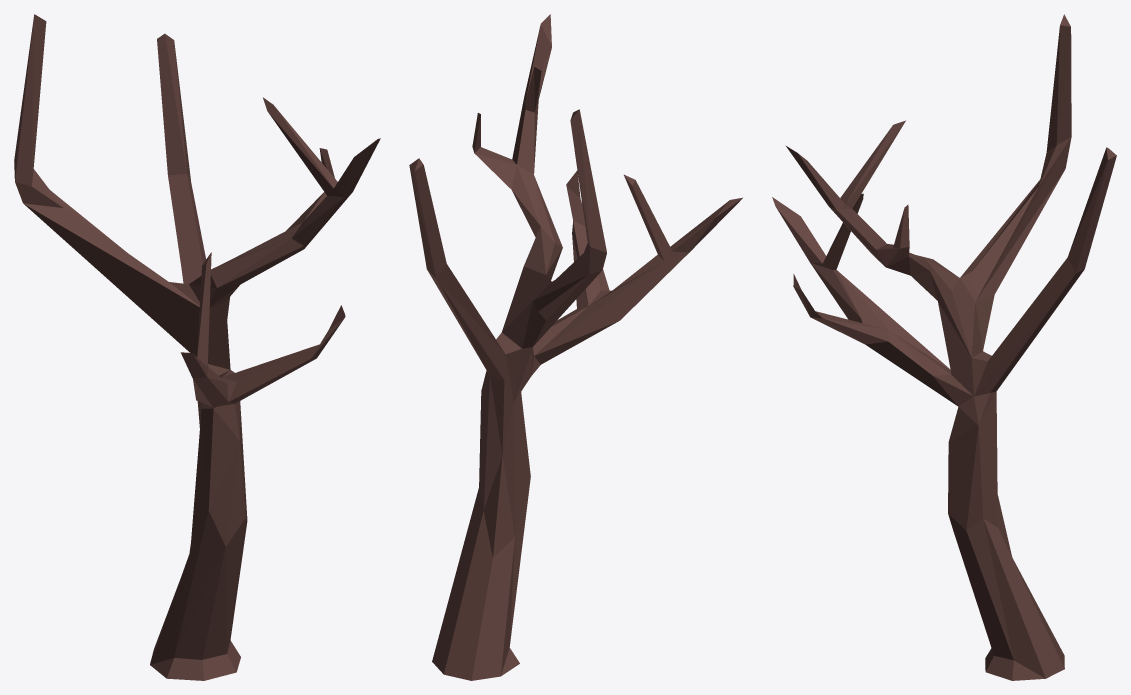
Rendered from tree-common-dead-5.gltf.
The picture shows the model from 3 angles, left to right: view 1: azimuth 30°, elevation 25°; view 2: azimuth 150°, elevation 25°; view 3: azimuth 270°, elevation 25°; orthographic projection. The views are drawn at different scales.
Visible parts, largest first — view 1: CommonTree_Dead_5_Cube.001; view 2: CommonTree_Dead_5_Cube.001; view 3: CommonTree_Dead_5_Cube.001.
Part boxes in pixels (x1,y1,x2,y2): CommonTree_Dead_5_Cube.001: (14,14,380,680); CommonTree_Dead_5_Cube.001: (409,14,742,680); CommonTree_Dead_5_Cube.001: (772,14,1116,680).
Bounding box in the file's own units: 0.0085 × 0.0228 × 0.0121.
